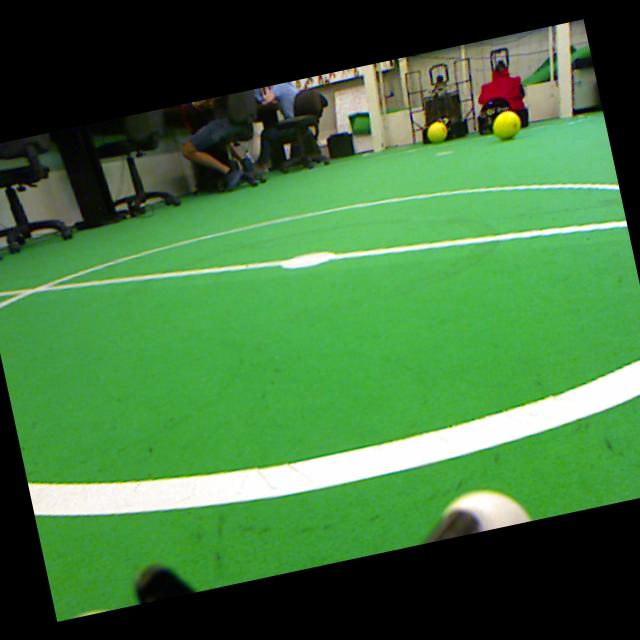ball: (493, 110, 521, 139), (427, 121, 447, 143)
goal: (363, 63, 384, 151), (556, 21, 572, 118)
robot: (422, 63, 469, 144)
